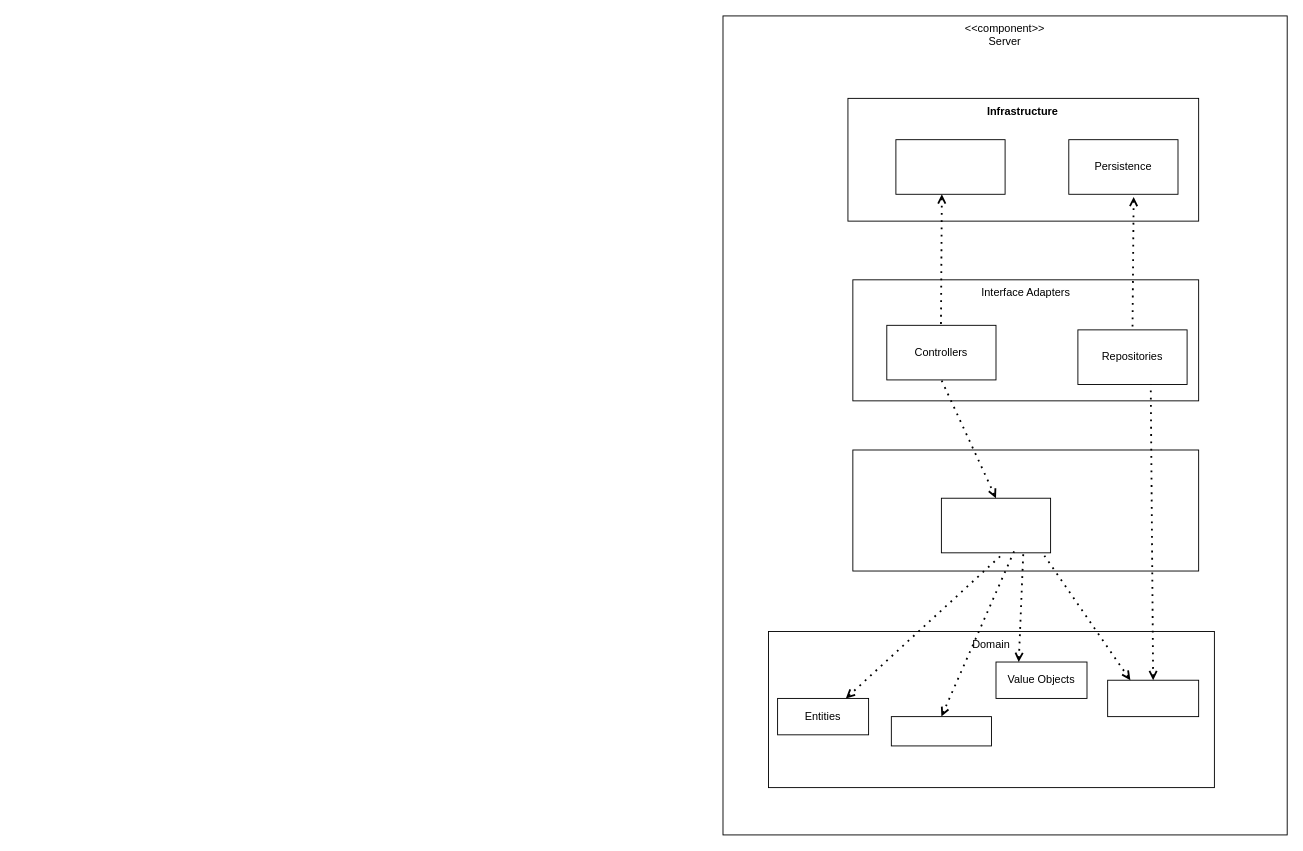
The diagram is 1303 pixels wide and 851 high, and some of its shapes have lost their labels. The shapes that lost their labels are listed below. From the top down, each one's box as (x1, y1, x2, y2) in pixels, then its label:
(895, 139, 1005, 194): Routes
(940, 497, 1051, 553): Services
(852, 449, 1199, 571): Application Services
(1107, 679, 1199, 717): Repository Interfaces
(890, 716, 991, 746): Services Interfaces
